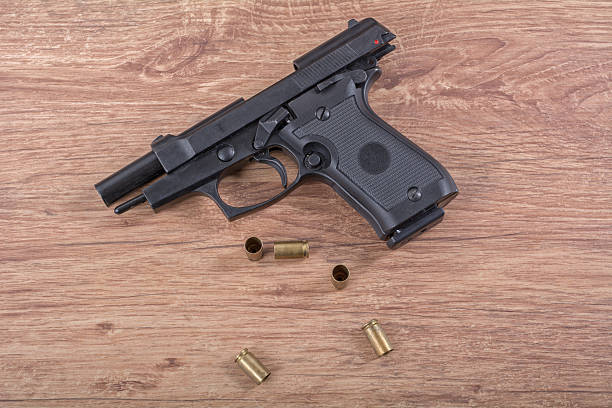gun: (95, 15, 458, 250)
